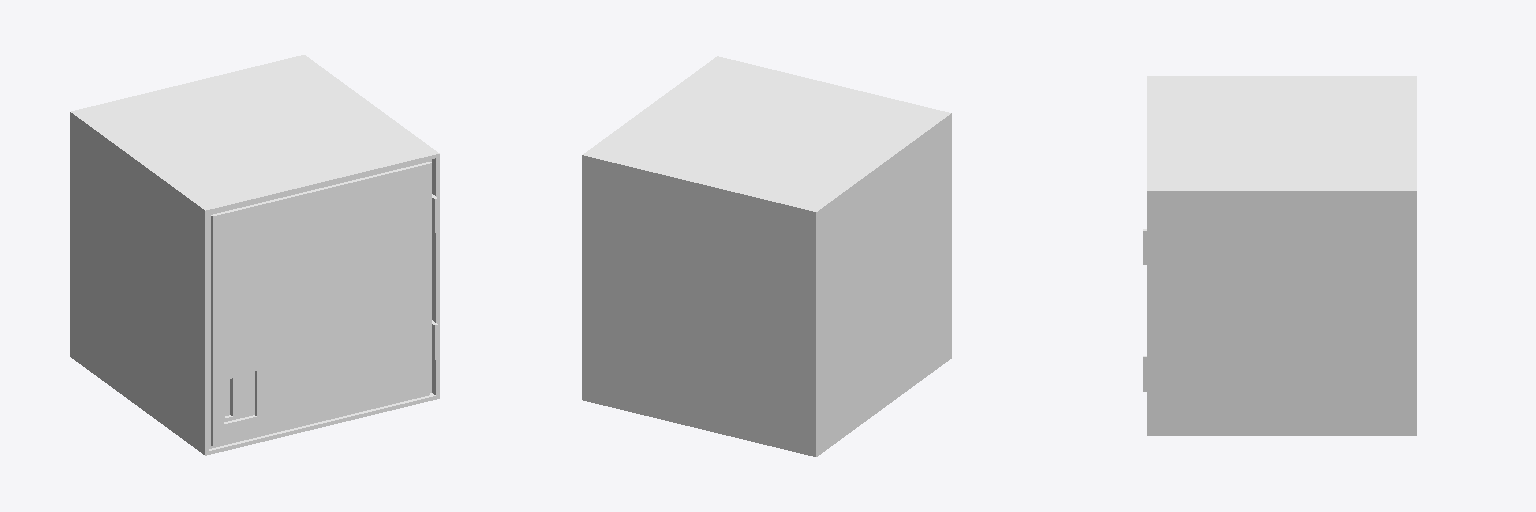
File: SaMulHam.obj
3 views of the same model, side by side, from view 1: azimuth 30°, elevation 25°; view 2: azimuth 150°, elevation 25°; view 3: azimuth 270°, elevation 25° (orthographic).
Parts seen in each view (by area): view 1: object 1; view 2: object 1; view 3: object 1.
Boxes of the visible parts, box(x1,y1,x2,y2) form: object 1: box(70, 55, 439, 455); object 1: box(582, 56, 951, 456); object 1: box(1143, 76, 1416, 435).
Size of the model in its own units: 6.4 by 6.4 by 6.5.